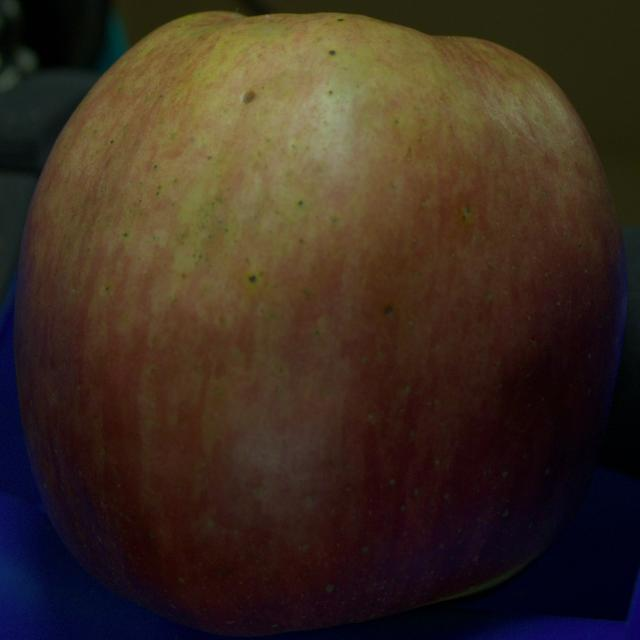apple: (14, 12, 626, 635)
pest: (242, 91, 255, 102), (384, 306, 392, 316), (249, 276, 256, 282), (329, 50, 335, 54)
